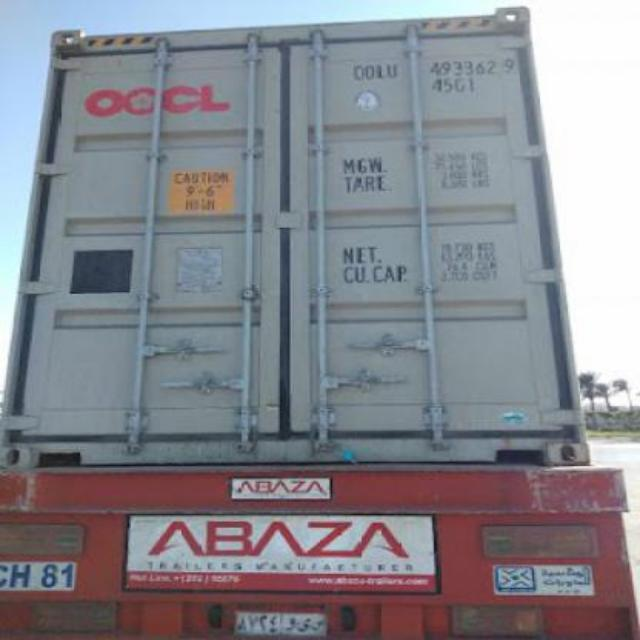2: (486, 57, 498, 73)
3: (464, 60, 476, 78), (454, 60, 460, 78)
4: (428, 59, 442, 77)
6: (476, 57, 486, 77)
9: (504, 60, 516, 76), (442, 60, 450, 78)
D: (366, 62, 376, 82)
L: (378, 65, 382, 81)
O: (352, 65, 366, 81)
U: (386, 62, 398, 80)
